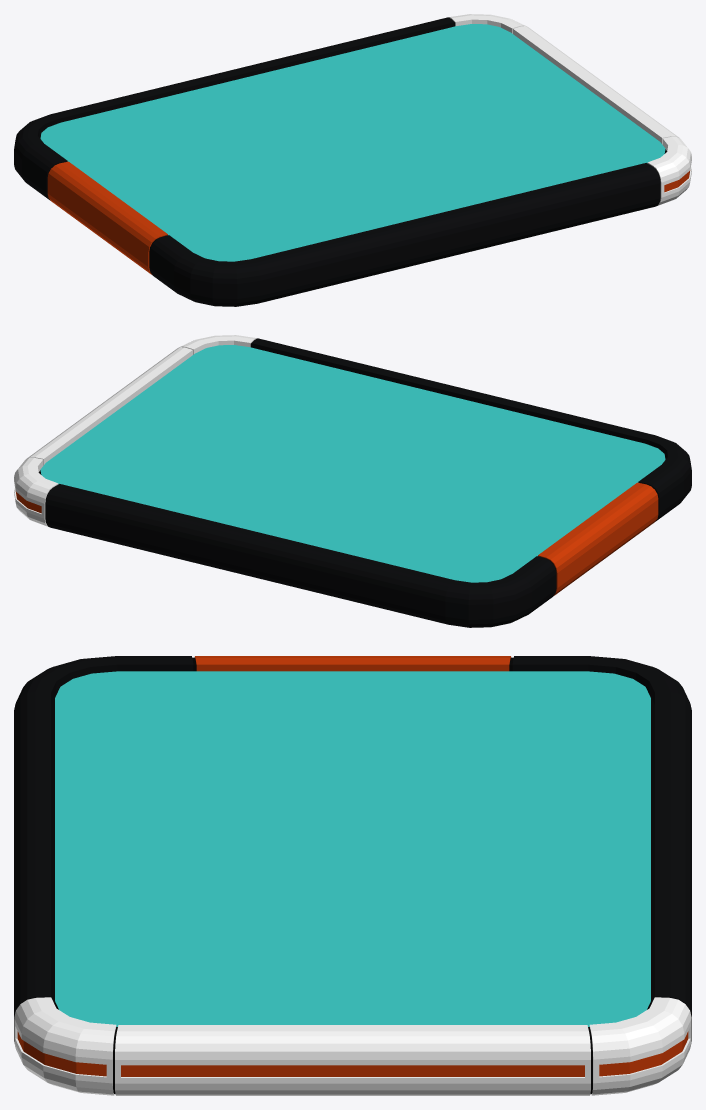
Rendered from SM_Control_Tablet.obj.
The picture shows the model from 3 angles, top to bottom: view 1: azimuth 30°, elevation 25°; view 2: azimuth 150°, elevation 25°; view 3: azimuth 270°, elevation 25°; orthographic projection. The views are drawn at different scales.
Parts seen in each view (by area): view 1: SM_Control_Tablet; view 2: SM_Control_Tablet; view 3: SM_Control_Tablet.
Part boxes in pixels (box(x1,y1,x2,y2)): SM_Control_Tablet: box(14, 14, 691, 306); SM_Control_Tablet: box(14, 335, 691, 627); SM_Control_Tablet: box(14, 656, 691, 1095).
Bounding box in the file's own units: 0.1976 × 0.0147 × 0.1446.
